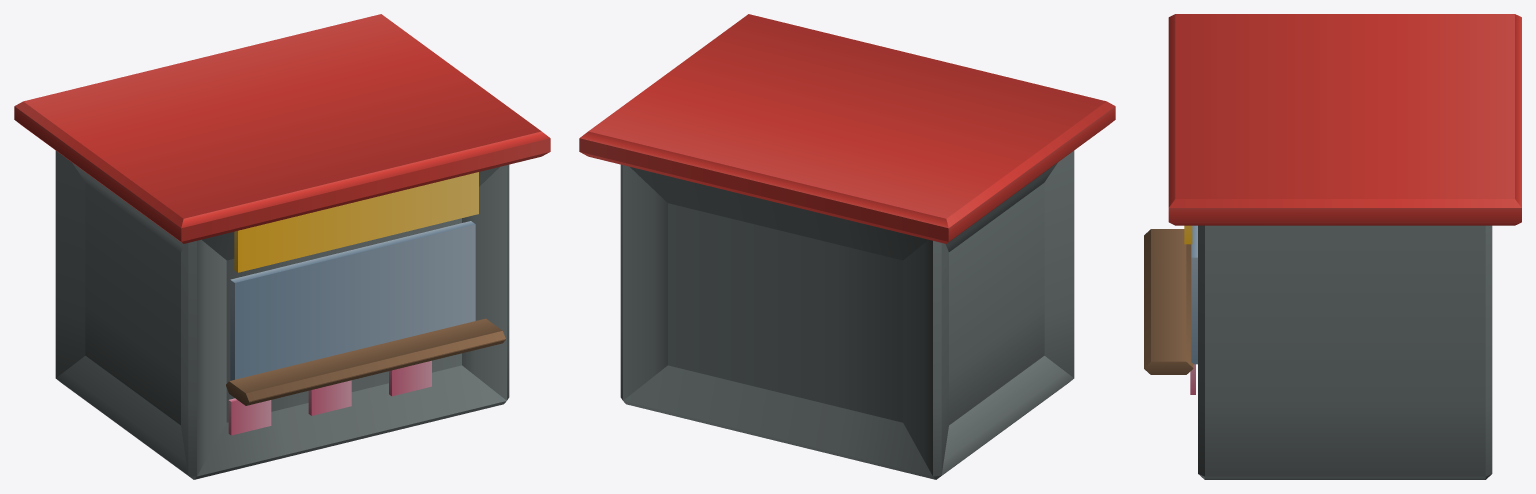
Rendered from dt_kiosk.fbx.
The picture shows the model from 3 angles, left to right: view 1: azimuth 30°, elevation 25°; view 2: azimuth 150°, elevation 25°; view 3: azimuth 270°, elevation 25°; orthographic projection. The views are drawn at different scales.
Parts seen in each view (by area): view 1: dt_kiosk; view 2: dt_kiosk; view 3: dt_kiosk.
Boxes of the visible parts, left/top/right/bottom form: dt_kiosk: left=14, top=14, right=550, bottom=479; dt_kiosk: left=579, top=14, right=1115, bottom=479; dt_kiosk: left=1144, top=14, right=1521, bottom=479.
Size of the model in its own units: 1200 by 861 by 1004.
